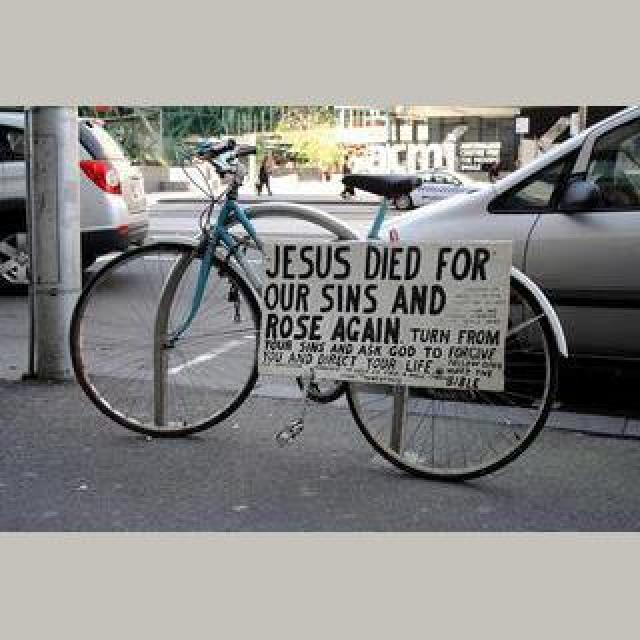Bus-Bike: (356, 106, 638, 390), (0, 114, 144, 284)
Person: (60, 137, 640, 479)
